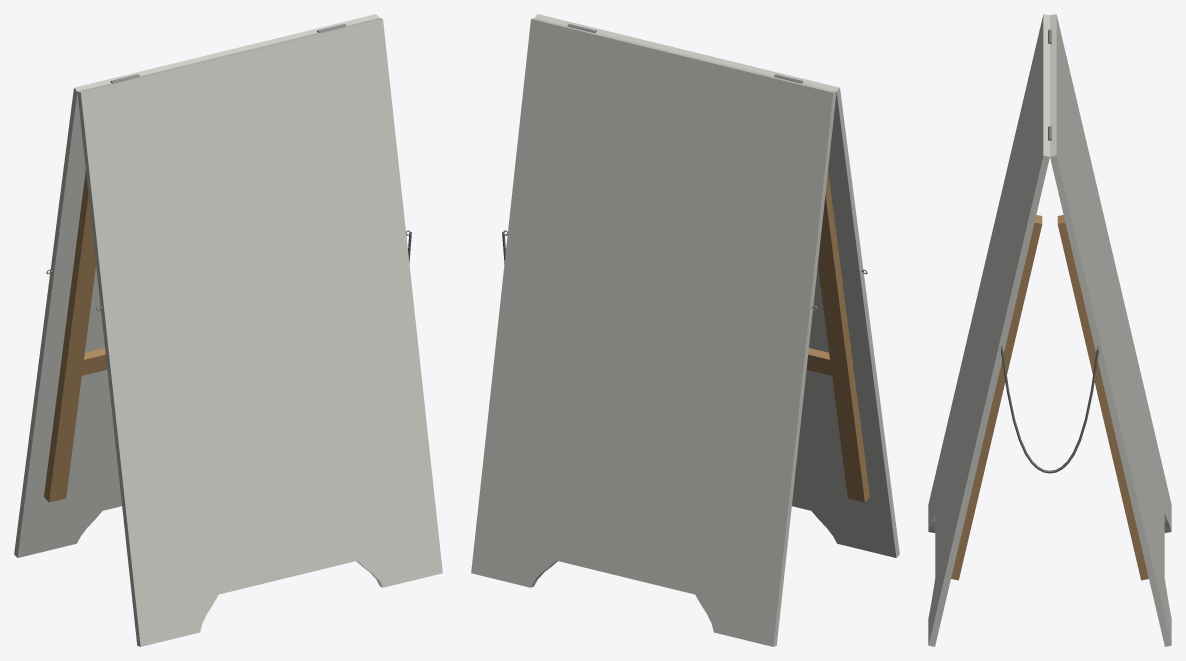
Rendered from a-board.glb.
3 renders of one model, left to right at view 1: azimuth 30°, elevation 25°; view 2: azimuth 150°, elevation 25°; view 3: azimuth 270°, elevation 25°, orthographic. The views are drawn at different scales.
Visible parts, largest first — view 1: f_main, r_main, r_stile_l, f_foot_l, f_foot_r, r_foot_l; view 2: r_main, f_main, f_stile_l, r_foot_l, r_foot_r, f_foot_l; view 3: f_main, r_main, f_stile_r, r_stile_r, chain, f_foot_r, r_foot_r.
Boxes of the visible parts, bbox=[...] form: f_main: bbox=[77, 18, 439, 614]; r_main: bbox=[17, 14, 379, 530]; r_stile_l: bbox=[44, 170, 95, 502]; f_foot_l: bbox=[133, 594, 218, 646]; f_foot_r: bbox=[356, 541, 442, 587]; r_foot_l: bbox=[14, 511, 102, 557]; r_main: bbox=[474, 18, 836, 614]; f_main: bbox=[534, 14, 896, 530]; f_stile_l: bbox=[818, 170, 869, 502]; r_foot_l: bbox=[695, 594, 780, 646]; r_foot_r: bbox=[471, 541, 557, 587]; f_foot_l: bbox=[811, 511, 899, 557]; f_main: bbox=[935, 14, 1049, 617]; r_main: bbox=[1050, 14, 1164, 617]; f_stile_r: bbox=[951, 215, 1042, 580]; r_stile_r: bbox=[1057, 215, 1148, 580]; chain: bbox=[1001, 349, 1098, 473]; f_foot_r: bbox=[928, 579, 941, 646]; r_foot_r: bbox=[1158, 579, 1171, 646].
Bounding box in the file's own units: 0.6265 × 0.9724 × 0.4351.
